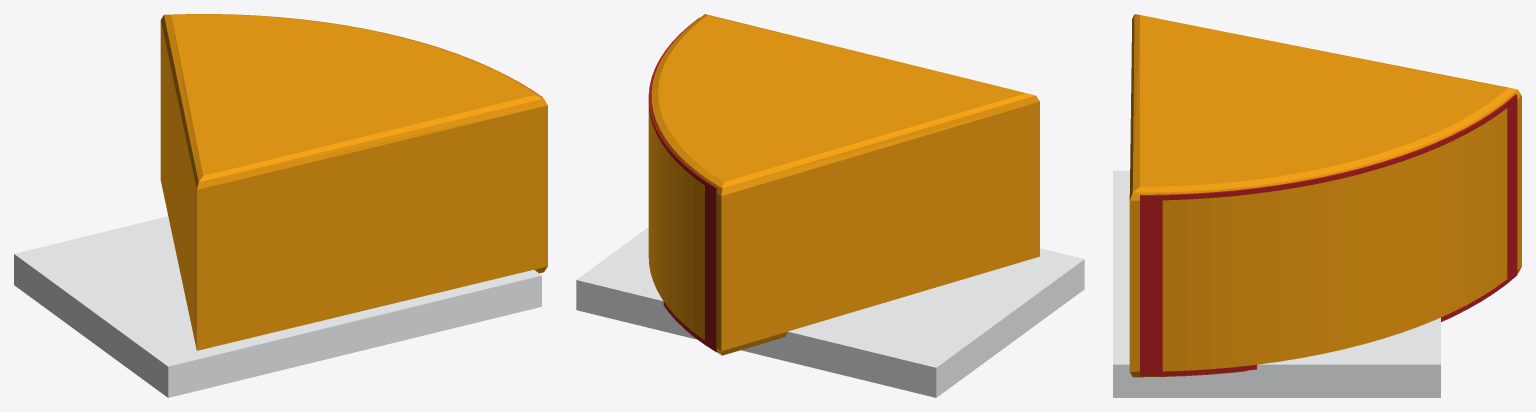
File: cheese-wedge.glb
The picture shows the model from 3 angles, left to right: view 1: azimuth 30°, elevation 25°; view 2: azimuth 150°, elevation 25°; view 3: azimuth 270°, elevation 25°; orthographic projection. The views are drawn at different scales.
Parts seen in each view (by area): view 1: Cheese_Triangular_Wedge, Cheese_Base_Tray; view 2: Cheese_Triangular_Wedge, Cheese_Base_Tray, Cheese_Wax_Rind; view 3: Cheese_Triangular_Wedge, Cheese_Base_Tray, Cheese_Wax_Rind.
Boxes of the visible parts, x1=… form: Cheese_Triangular_Wedge: x1=160, y1=14, x2=547, y2=350; Cheese_Base_Tray: x1=14, y1=216, x2=541, y2=397; Cheese_Triangular_Wedge: x1=648, y1=14, x2=1039, y2=355; Cheese_Base_Tray: x1=576, y1=227, x2=1084, y2=397; Cheese_Wax_Rind: x1=648, y1=17, x2=717, y2=352; Cheese_Triangular_Wedge: x1=1129, y1=14, x2=1521, y2=377; Cheese_Base_Tray: x1=1113, y1=170, x2=1440, y2=397; Cheese_Wax_Rind: x1=1140, y1=94, x2=1517, y2=376.
Size of the model in its own units: 0.1815 by 0.09 by 0.1559.
